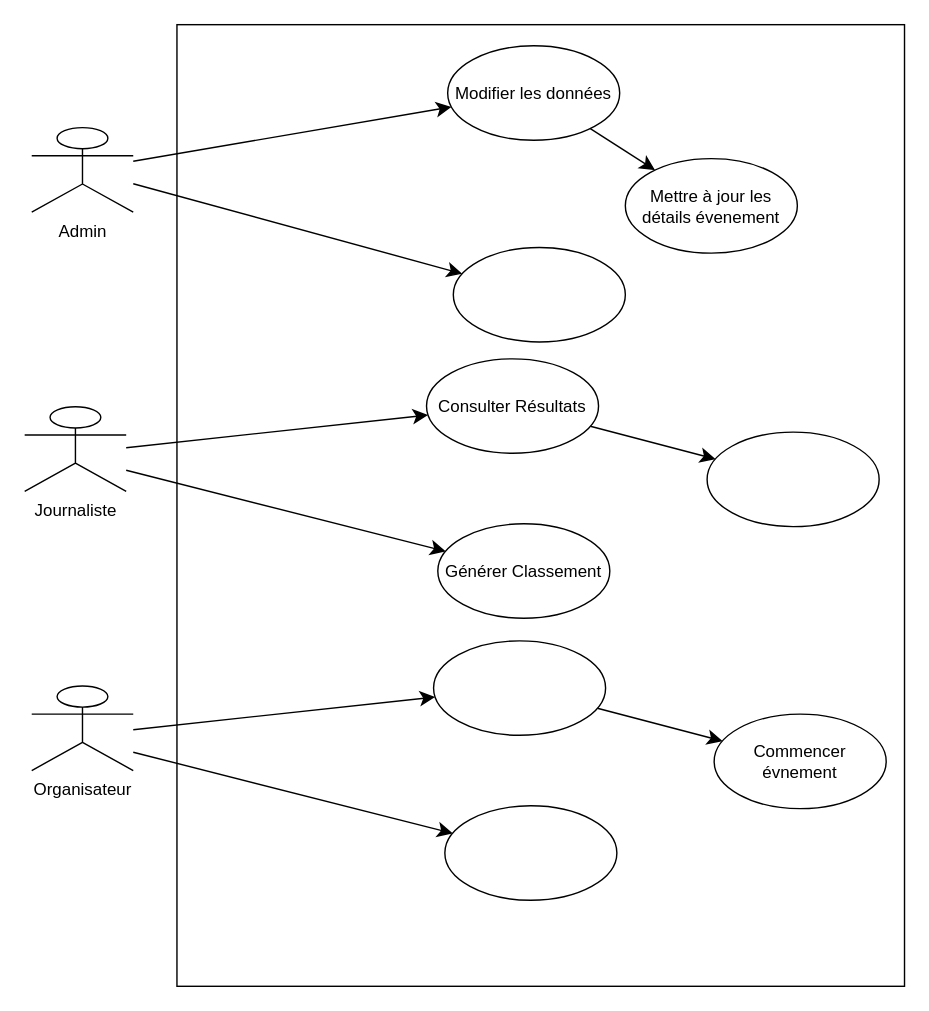
The diagram is 929 pixels wide and 1011 high, and some of its shapes have lost their labels. Here are the shapes that lost their labels. From the top down, the centre of each, then its label:
the point at 538,294: Saisir les données
the point at 792,479: Voir évènement
the point at 519,687: Lancer évènement
the point at 530,852: Enregistrer Résultats
